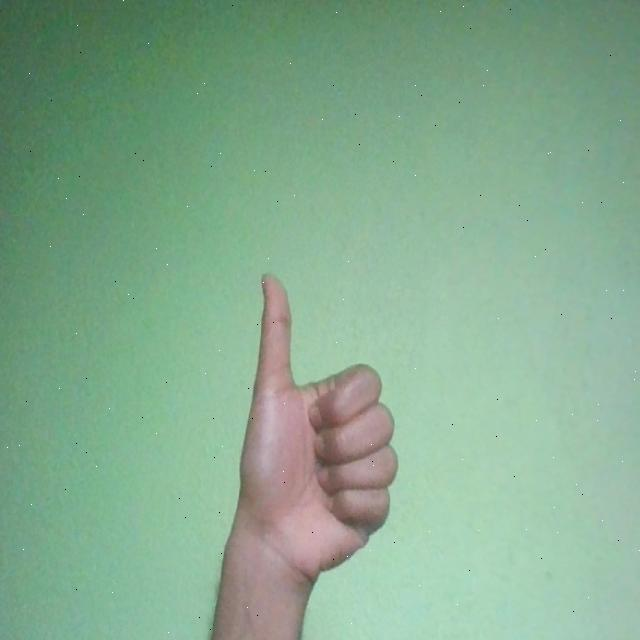Good Job: (239, 272, 400, 592)
